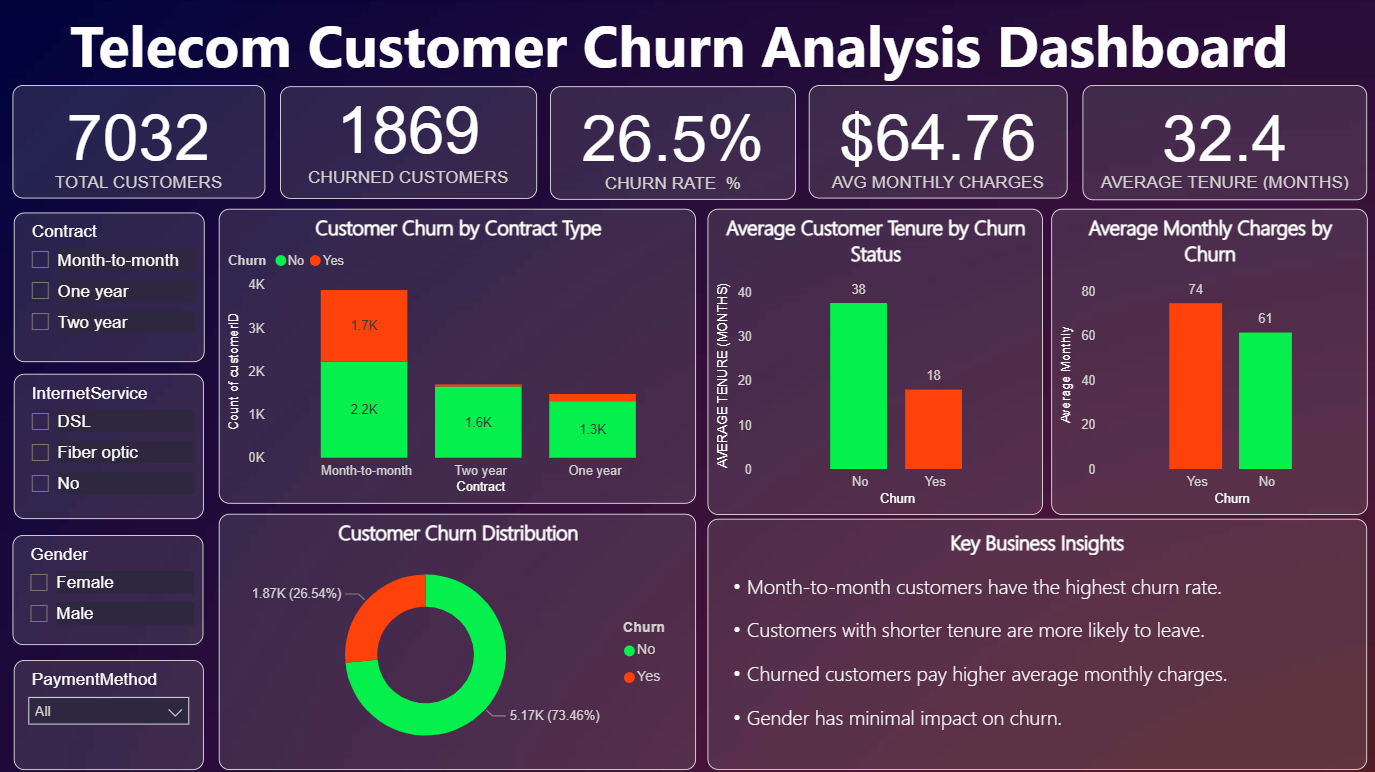

What the dashboard file says about the page in this screenshot:
{"tool":"powerbi","page":{"name":"ALL CUSTOMER","canvas":[1280,720],"ordinal":0},"visuals":[{"type":"card","fields":{"Values":["CALCULATIONS.TOTAL CUSTOMERS"]},"box":[11.6,79.1,234.9,105.8],"z":0},{"type":"card","fields":{"Values":["CALCULATIONS.Churn Rate %"]},"box":[511.6,80.2,229.1,105.8],"z":1000},{"type":"card","fields":{"Values":["RAW DATA EXCEL.Average Tenure"]},"box":[1007,79.1,265.1,107],"z":2000},{"type":"card","fields":{"Values":["CALCULATIONS.Avg Monthly Charges"]},"box":[752.3,79.1,240.7,105.8],"z":3000},{"type":"textbox","box":[0,0,1264,90.7],"z":10000},{"type":"cardVisual","fields":{"Data":["CHURNED CUSTOMER.Churned Customers"]},"box":[260.5,80.2,239.5,104.7],"z":11000},{"type":"donutChart","title":"Customer Churn Distribution","fields":{"Y":["CountNonNull(RAW DATA EXCEL.customerID)"],"Category":["RAW DATA EXCEL.Churn"]},"box":[203.5,477.9,444.2,238.4],"z":12000},{"type":"columnChart","title":"Customer Churn by Contract Type","fields":{"Category":["RAW DATA EXCEL.Contract"],"Series":["RAW DATA EXCEL.Churn"],"Y":["CountNonNull(RAW DATA EXCEL.customerID)"]},"box":[203.5,194.2,444.2,274.4],"z":13000},{"type":"clusteredColumnChart","title":"Average Monthly Charges by Churn ","fields":{"Category":["RAW DATA EXCEL.Churn"],"Y":["RAW DATA EXCEL.Average Monthly"]},"box":[977.9,194.2,294.2,284.9],"z":14000},{"type":"clusteredColumnChart","title":"Average Customer Tenure by Churn Status","fields":{"Category":["RAW DATA EXCEL.Churn"],"Y":["RAW DATA EXCEL.Average Tenure"]},"box":[658.1,194.2,311.6,284.9],"z":15000},{"type":"slicer","fields":{"Values":["RAW DATA EXCEL.Contract"]},"box":[12.8,197.7,177.9,139.5],"z":16000},{"type":"slicer","fields":{"Values":["RAW DATA EXCEL.InternetService"]},"box":[12.8,347.7,176.7,134.9],"z":16001},{"type":"slicer","fields":{"Values":["RAW DATA EXCEL.Gender"]},"box":[11.6,497.7,177.9,102.3],"z":16002},{"type":"slicer","fields":{"Values":["RAW DATA EXCEL.PaymentMethod"]},"box":[12.8,614,176.7,102.3],"z":16003},{"type":"textbox","box":[658.1,482.6,614,233.7],"z":16004}]}

Visuals, with their boxes in screenshot pixels (x1, y1, x2, y2), scaled from the page's 1280x720 canvas onto the 1375x772 screenshot:
card - CALCULATIONS.TOTAL CUSTOMERS: [12, 85, 265, 198]
card - CALCULATIONS.Churn Rate %: [550, 86, 796, 199]
card - RAW DATA EXCEL.Average Tenure: [1082, 85, 1367, 200]
card - CALCULATIONS.Avg Monthly Charges: [808, 85, 1067, 198]
textbox: [0, 0, 1358, 97]
cardVisual - CHURNED CUSTOMER.Churned Customers: [280, 86, 537, 198]
"Customer Churn Distribution" donutChart: [219, 512, 696, 768]
"Customer Churn by Contract Type" columnChart: [219, 208, 696, 502]
"Average Monthly Charges by Churn " clusteredColumnChart: [1050, 208, 1367, 514]
"Average Customer Tenure by Churn Status" clusteredColumnChart: [707, 208, 1042, 514]
slicer - RAW DATA EXCEL.Contract: [14, 212, 205, 362]
slicer - RAW DATA EXCEL.InternetService: [14, 373, 204, 517]
slicer - RAW DATA EXCEL.Gender: [12, 534, 204, 643]
slicer - RAW DATA EXCEL.PaymentMethod: [14, 658, 204, 768]
textbox: [707, 517, 1367, 768]
